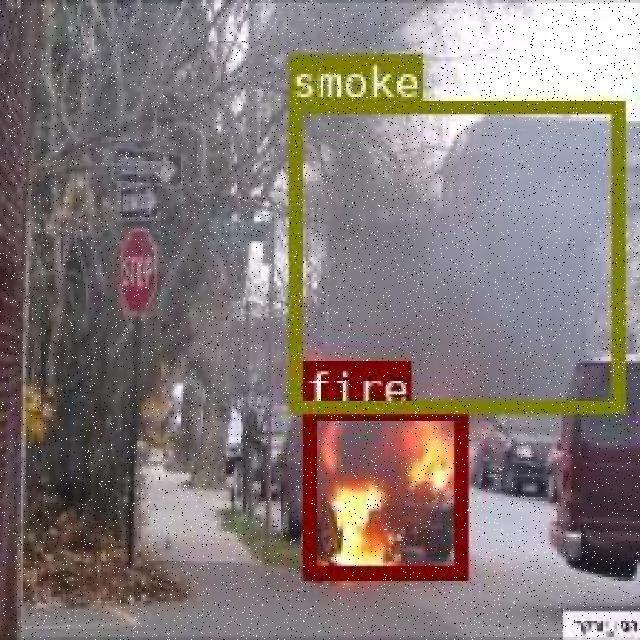Smoke: (291, 98, 618, 411)
